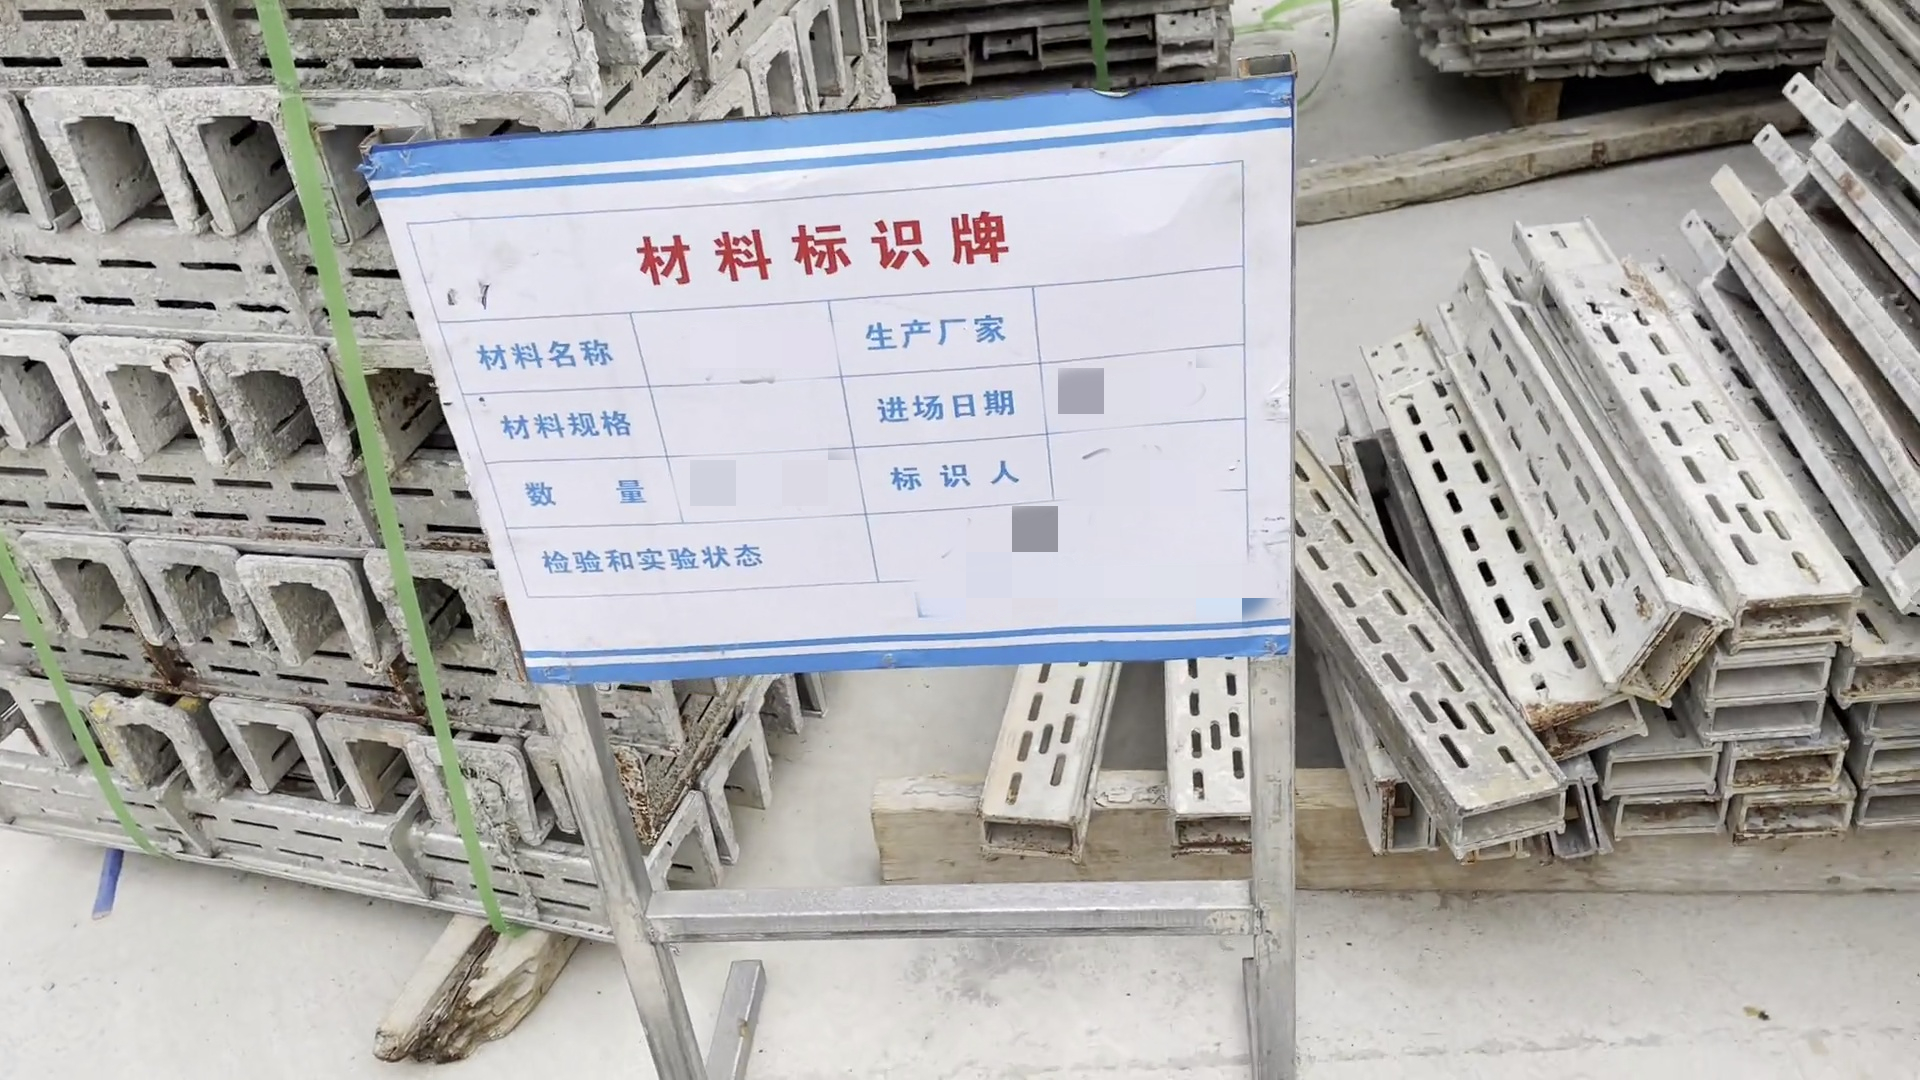slogan: (334, 41, 1419, 756)
